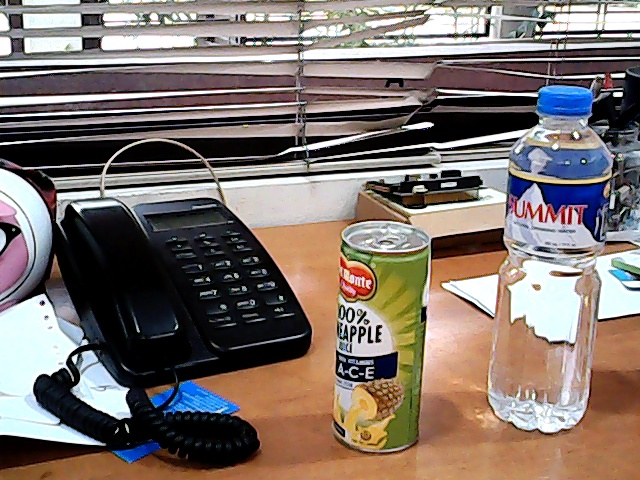Pine Juice: (318, 214, 447, 467)
Summit Water: (471, 76, 623, 454)
